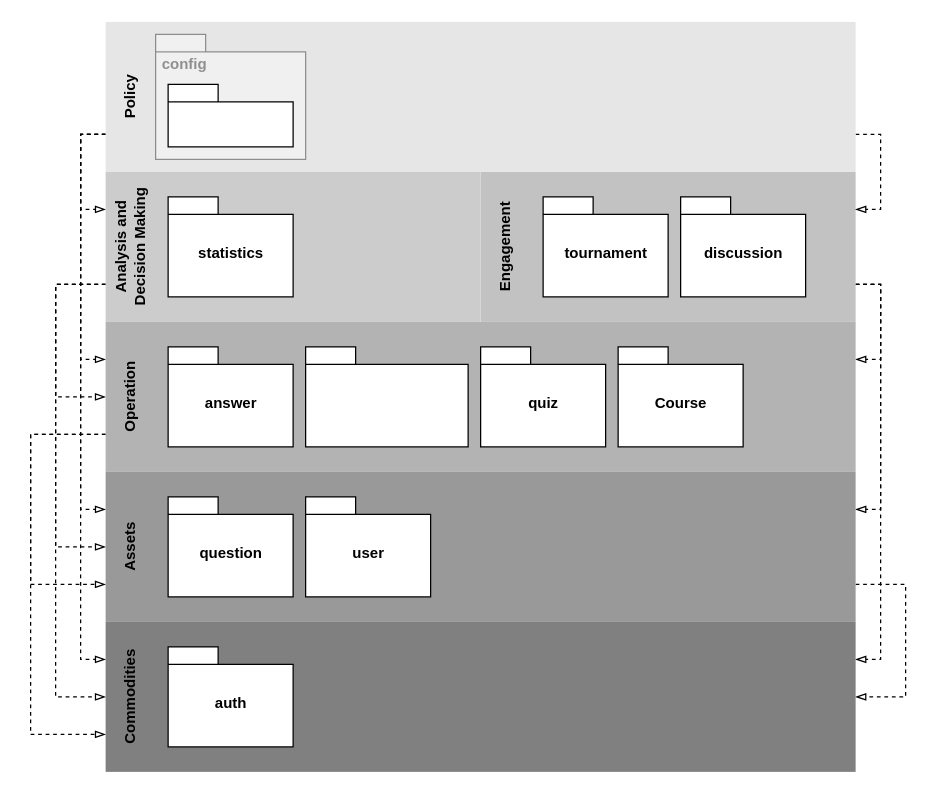
The diagram is 938 pixels wide and 793 high, and some of its shapes have lost their labels. Here are the shapes that lost their labels. From the top down, the box of each, then its label:
(167, 83, 293, 147): permission
(304, 346, 468, 447): questionsubmission
